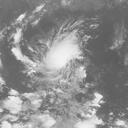cyclone: (37, 29, 87, 71)
